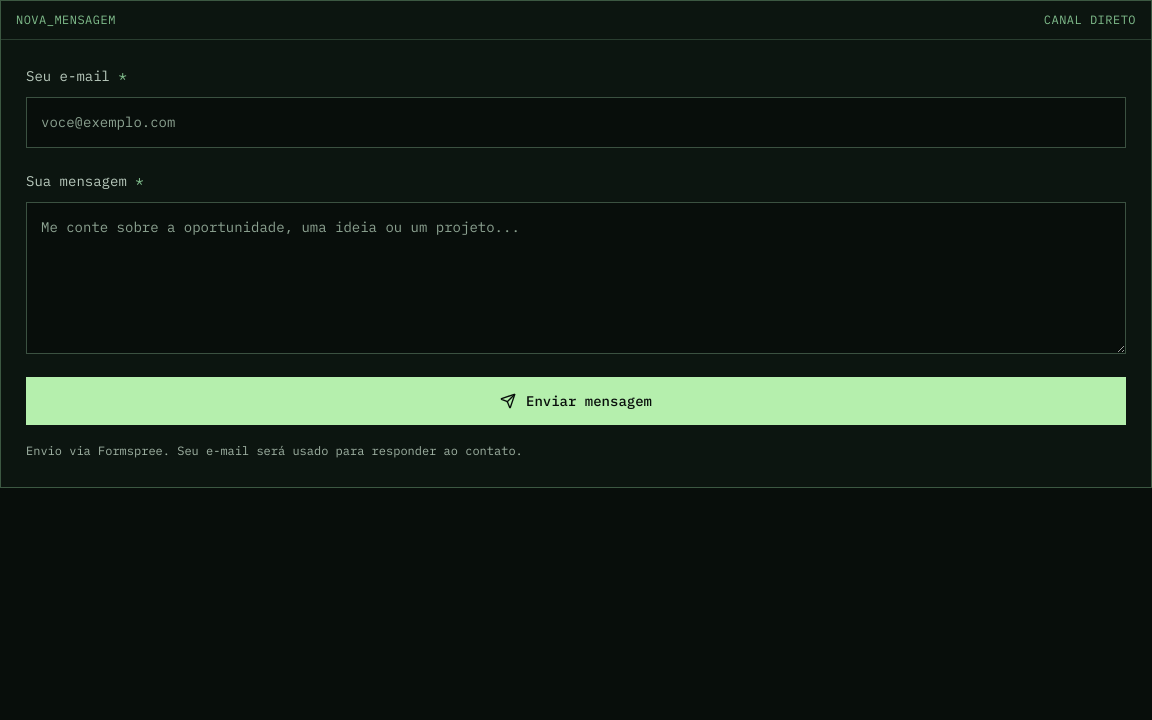
Test case: contact form › keeps the message and allows retry after a http failure
Type "visitor@example.com" into the field labelled "Seu e-mail *".
click(576, 123); type("visitor@example.com")  # box [26, 97, 1126, 148]
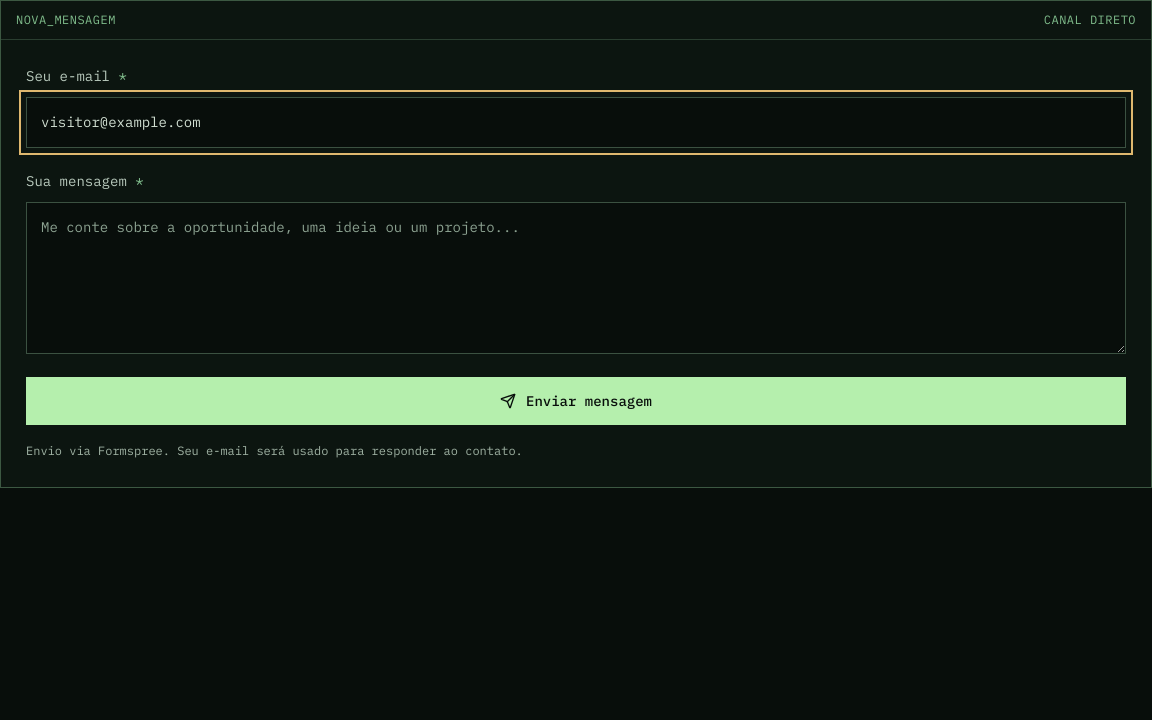
Type "Quero conversar sobre uma oportunidade." into the text box labelled "Sua mensagem *".
click(576, 278); type("Quero conversar sobre uma oportunidade.")  # box [26, 202, 1126, 354]
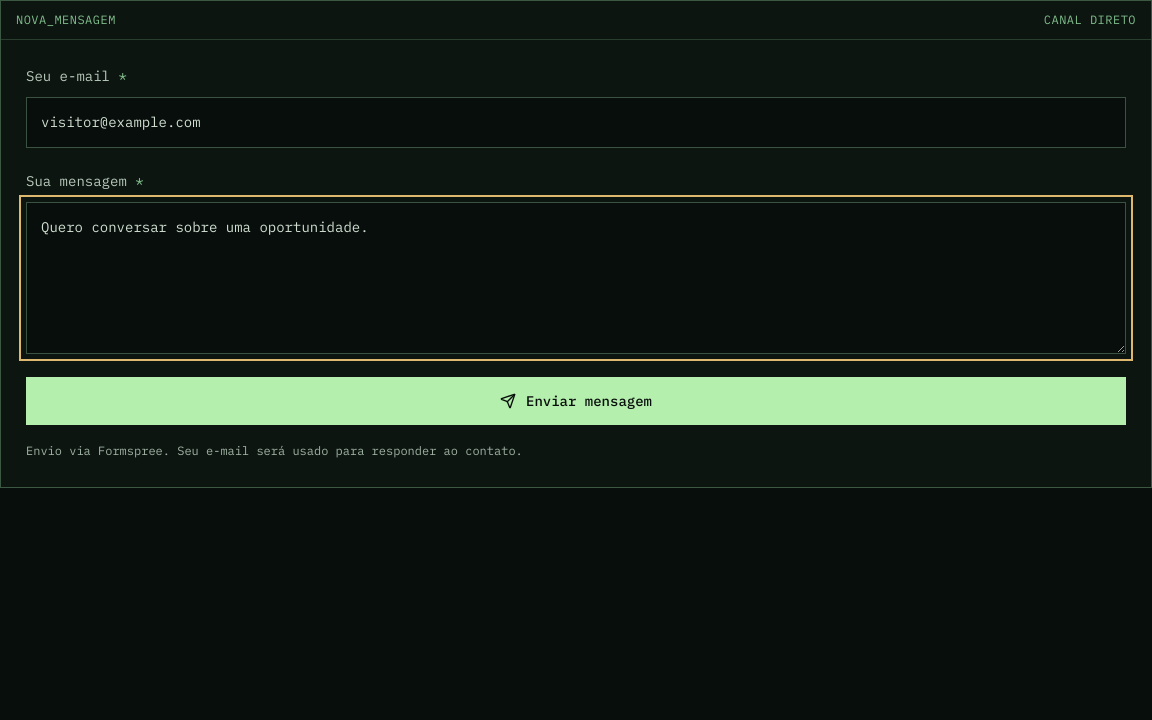
Click the button "Enviar mensagem".
click(576, 401)  # box [26, 377, 1126, 425]
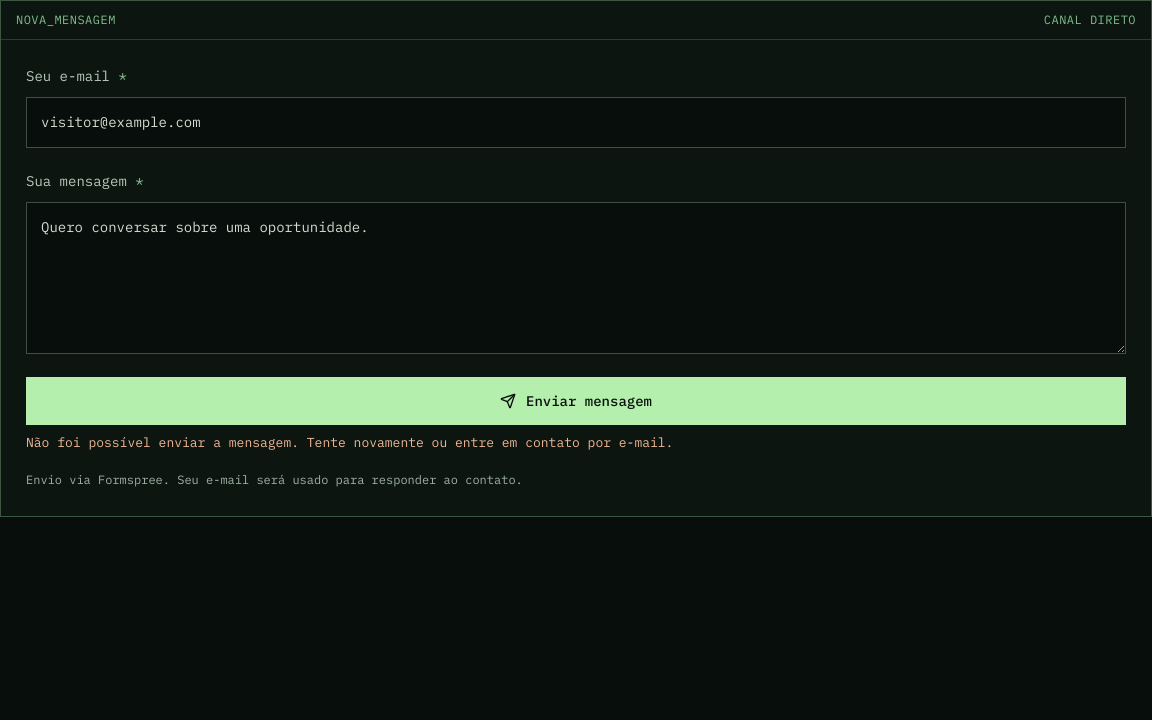
Expected: the text "Não foi possível enviar" is shown, [26, 434, 673, 451]
